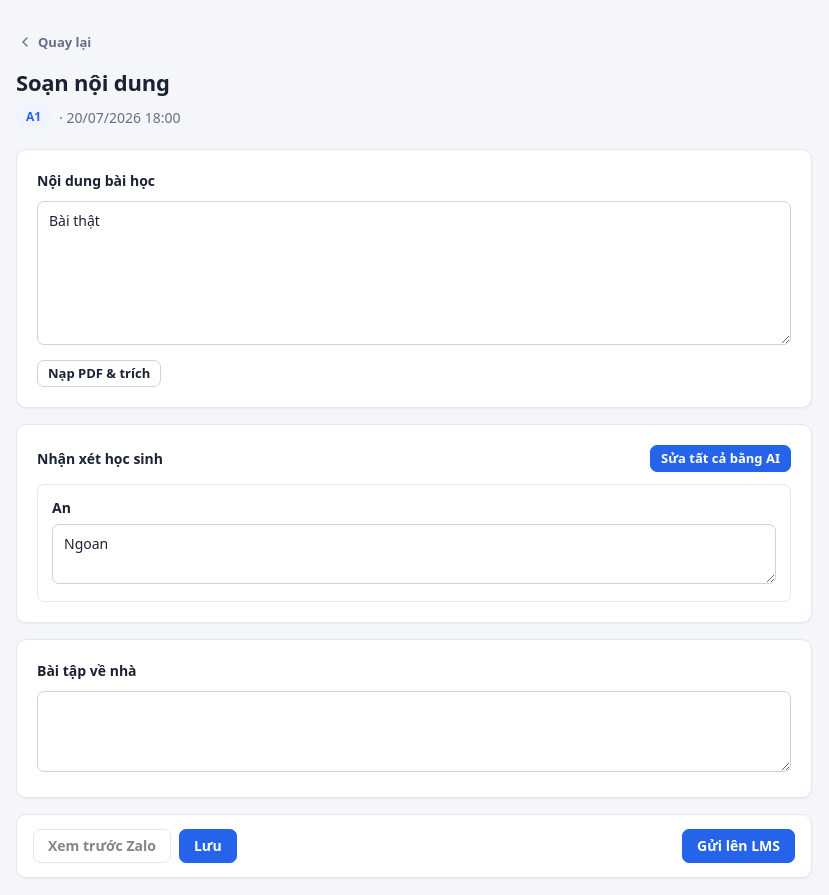
SessionComposer › chờ cả config thật trước khi cho xem preview và không dùng DEFAULT_CONFIG tạm thời
Expected: the text box named "nội dung bài học" below "Nội dung bài học" holds "Bài thật", [37,201,791,345]
What coordinates should you click on to do the following:
click the button "Xem trước Zalo"
I would click on:
 (102, 846)
Its box is [33,829,171,863].
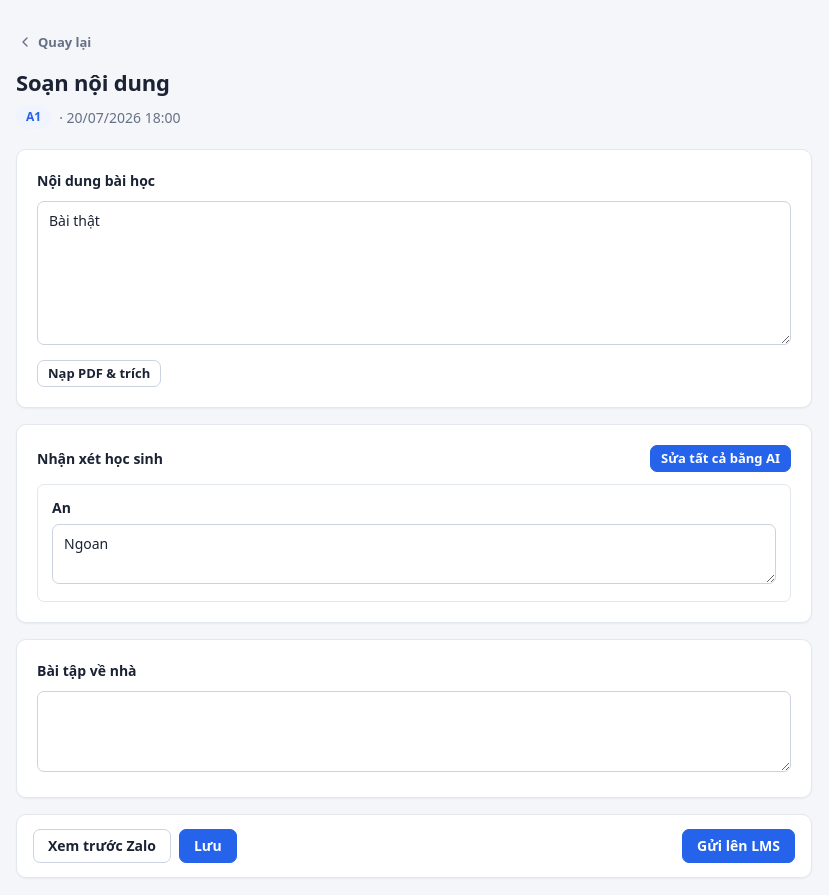
Result: the button "Xem trước Zalo" is enabled
What coordinates should you click on to do the following:
click the button "Xem trước Zalo"
I would click on:
 (102, 846)
Its box is [33,829,171,863].
(page scrolled)
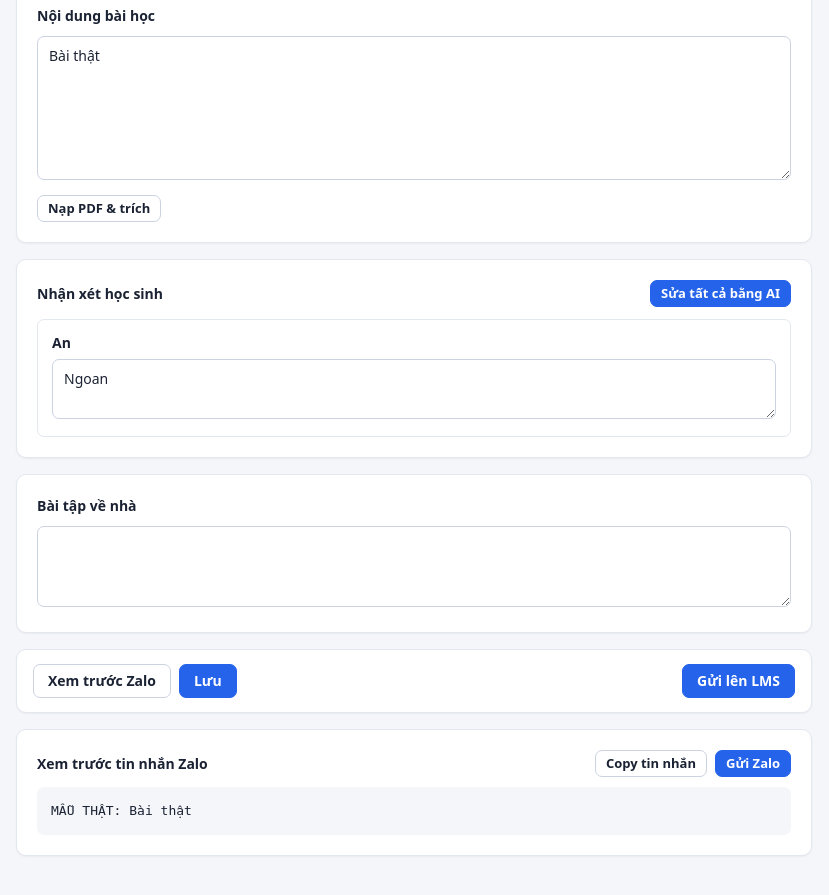
Result: the text named "xem trước zalo" reads "MẪU THẬT: Bài thật" at [51,803,192,818]
